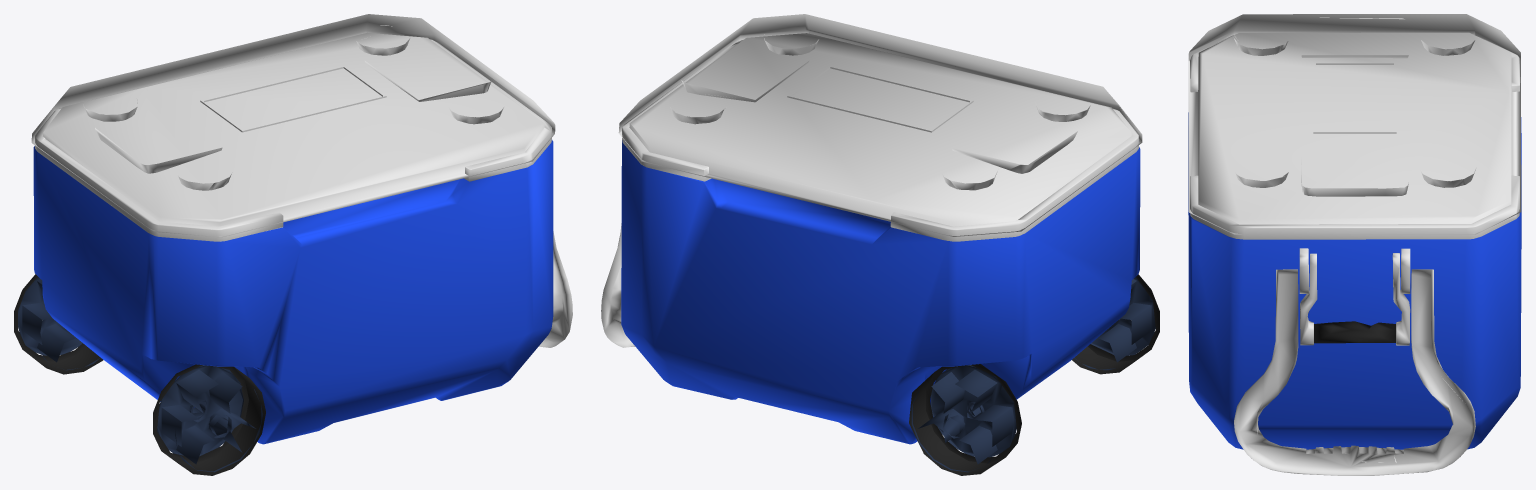
Rendered from cooler.glb.
3 renders of one model, left to right at view 1: azimuth 30°, elevation 25°; view 2: azimuth 150°, elevation 25°; view 3: azimuth 270°, elevation 25°, orthographic.
Visible parts, largest first — view 1: Object_6, Object_8, Object_4, Object_14; view 2: Object_6, Object_8, Object_4, Object_14; view 3: Object_8, Object_6, Object_14.
Part boxes in pixels (left/top/right/bottom): Object_6: left=33, top=140, right=553, bottom=444; Object_8: left=31, top=14, right=572, bottom=347; Object_4: left=18, top=277, right=263, bottom=472; Object_14: left=14, top=274, right=265, bottom=475; Object_6: left=621, top=140, right=1140, bottom=444; Object_8: left=601, top=14, right=1142, bottom=347; Object_4: left=911, top=277, right=1155, bottom=472; Object_14: left=909, top=274, right=1159, bottom=475; Object_8: left=1188, top=14, right=1521, bottom=475; Object_6: left=1188, top=112, right=1521, bottom=449; Object_14: left=1314, top=321, right=1395, bottom=343.
Bounding box in the file's own units: 0.7343 × 0.4676 × 0.5039.
